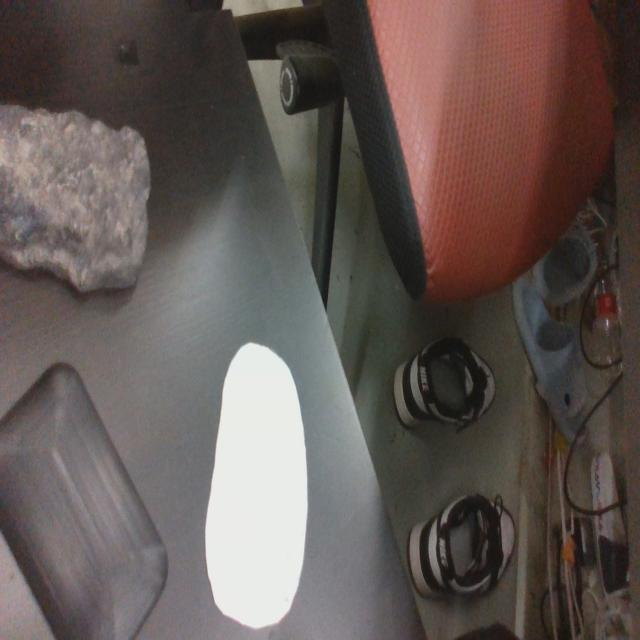stone: (0, 103, 151, 298)
